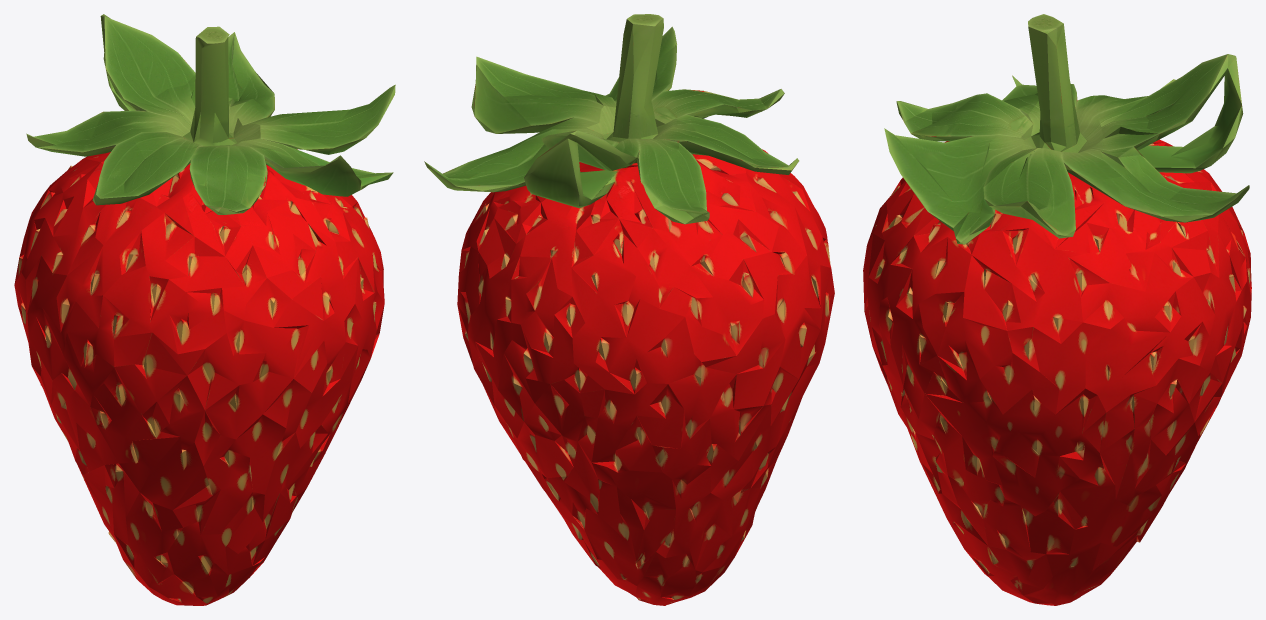
The model's file is crop-c022.glb.
3 views of the same model, side by side, from view 1: azimuth 30°, elevation 25°; view 2: azimuth 150°, elevation 25°; view 3: azimuth 270°, elevation 25° (orthographic). The views are drawn at different scales.
Parts seen in each view (by area): view 1: Mesh_0; view 2: Mesh_0; view 3: Mesh_0.
Part boxes in pixels (x1,y1,x2,y2): Mesh_0: (14,14,395,605); Mesh_0: (424,14,834,605); Mesh_0: (863,14,1251,605).
Bounding box in the file's own units: 0.1565 × 0.25 × 0.1493.
1 material, 1 textured.
